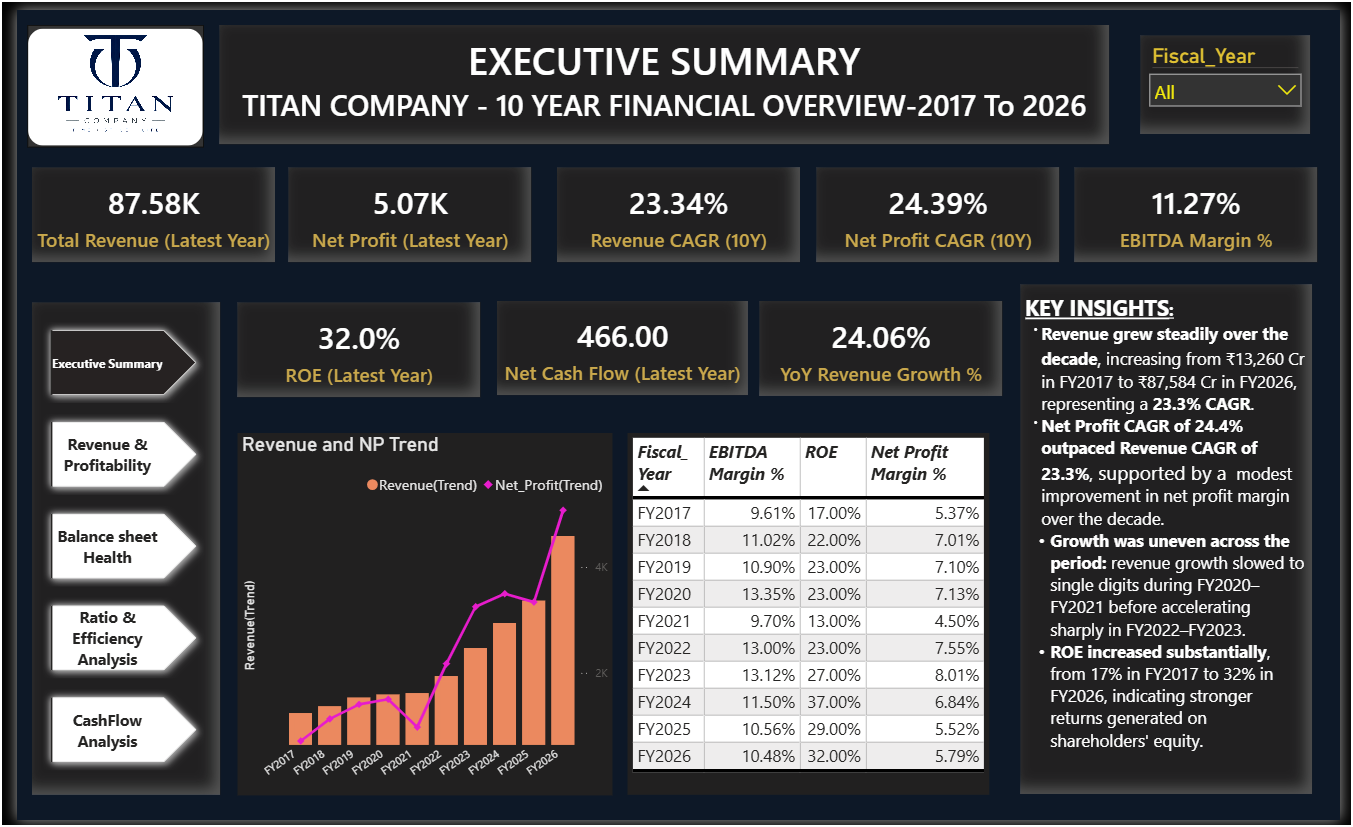

Layout of this report page (visuals, bound fields, positions):
{"tool":"powerbi","page":{"name":"Executive Summary","canvas":[1470,900],"ordinal":0},"visuals":[{"type":"textbox","box":[225.6,16.3,988.5,132.6],"z":0},{"type":"card","fields":{"Values":["_Measures-1.Total Revenue (Latest Year)"]},"box":[16.3,174.4,270,105],"z":1000},{"type":"textbox","box":[16.3,325.6,209.3,546.6],"z":1000,"group":"g1"},{"type":"card","fields":{"Values":["_Measures-1.EBITDA Margin %"]},"box":[1174.6,174.4,270,105],"z":2000},{"type":"card","fields":{"Values":["_Measures-1.YoY Revenue Growth %"]},"box":[824.9,323.8,270,105],"z":3000},{"type":"card","fields":{"Values":["_Measures-1.Net Cash Flow (Latest Year)"]},"box":[533.6,323.8,278.6,104.9],"z":4000},{"type":"card","fields":{"Values":["_Measures-1.ROE (Latest Year)"]},"box":[244.2,325.6,270,105],"z":5000},{"type":"card","fields":{"Values":["_Measures-1.Net Profit (Latest Year)"]},"box":[302.4,174.4,270,105],"z":6000},{"type":"card","fields":{"Values":["_Measures-1.Revenue CAGR (10Y)"]},"box":[600.1,174.4,270,105],"z":7000},{"type":"card","fields":{"Values":["_Measures-1.Net Profit CAGR (10Y)"]},"box":[888.5,174.4,270,105],"z":8000},{"type":"lineClusteredColumnComboChart","title":"Revenue and NP Trend ","fields":{"Category":["Dim_Fiscal_year.Fiscal_Year"],"Y":["_Measures-2.Revenue(Trend)"],"Y2":["_Measures-2.Net_Profit(Trend)"]},"box":[244.2,469.8,416.3,402.4],"z":9000},{"type":"tableEx","fields":{"Values":["Dim_Fiscal_year.Fiscal_Year","_Measures-1.EBITDA Margin %","_Measures-1.ROE","_Measures-2.Net Profit Margin %"]},"box":[677.8,469.5,401.9,401.9],"z":10000},{"type":"textbox","box":[1114.3,305.7,323.8,566.2],"z":11000},{"type":"slicer","fields":{"Values":["Dim_Fiscal_year.Fiscal_Year"]},"box":[1249,27.9,188.4,109.3],"z":12000},{"type":"pageNavigator","box":[27.5,347.5,180,500],"z":12002,"group":"g1"},{"type":"group","id":"g1","title":"Group 1","box":[16.3,325.6,209.3,546.6],"z":13000},{"type":"image","box":[12,16,196,136],"z":14000}]}

Visuals, with their boxes in screenshot pixels (x1, y1, x2, y2), scaled from the page's 1470x900 canvas onto the 1353x827 screenshot:
textbox: left=208, top=15, right=1117, bottom=137
card - _Measures-1.Total Revenue (Latest Year): left=15, top=160, right=264, bottom=257
textbox: left=15, top=299, right=208, bottom=801
card - _Measures-1.EBITDA Margin %: left=1081, top=160, right=1330, bottom=257
card - _Measures-1.YoY Revenue Growth %: left=759, top=298, right=1008, bottom=394
card - _Measures-1.Net Cash Flow (Latest Year): left=491, top=298, right=748, bottom=394
card - _Measures-1.ROE (Latest Year): left=225, top=299, right=473, bottom=396
card - _Measures-1.Net Profit (Latest Year): left=278, top=160, right=527, bottom=257
card - _Measures-1.Revenue CAGR (10Y): left=552, top=160, right=801, bottom=257
card - _Measures-1.Net Profit CAGR (10Y): left=818, top=160, right=1066, bottom=257
"Revenue and NP Trend " lineClusteredColumnComboChart: left=225, top=432, right=608, bottom=801
tableEx - Dim_Fiscal_year.Fiscal_Year x _Measures-1.EBITDA Margin %: left=624, top=431, right=994, bottom=801
textbox: left=1026, top=281, right=1324, bottom=801
slicer - Dim_Fiscal_year.Fiscal_Year: left=1150, top=26, right=1323, bottom=126
pageNavigator: left=25, top=319, right=191, bottom=779
"Group 1" group: left=15, top=299, right=208, bottom=801
image: left=11, top=15, right=191, bottom=140
